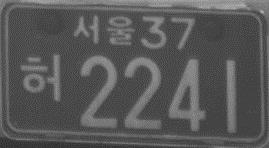1: (221, 56, 243, 136)
2: (77, 55, 122, 131), (122, 55, 164, 130)
3: (140, 14, 167, 49)
4: (165, 56, 207, 132)
7: (168, 14, 198, 51)
서울_O: (72, 13, 135, 48)
허: (18, 52, 62, 104)
